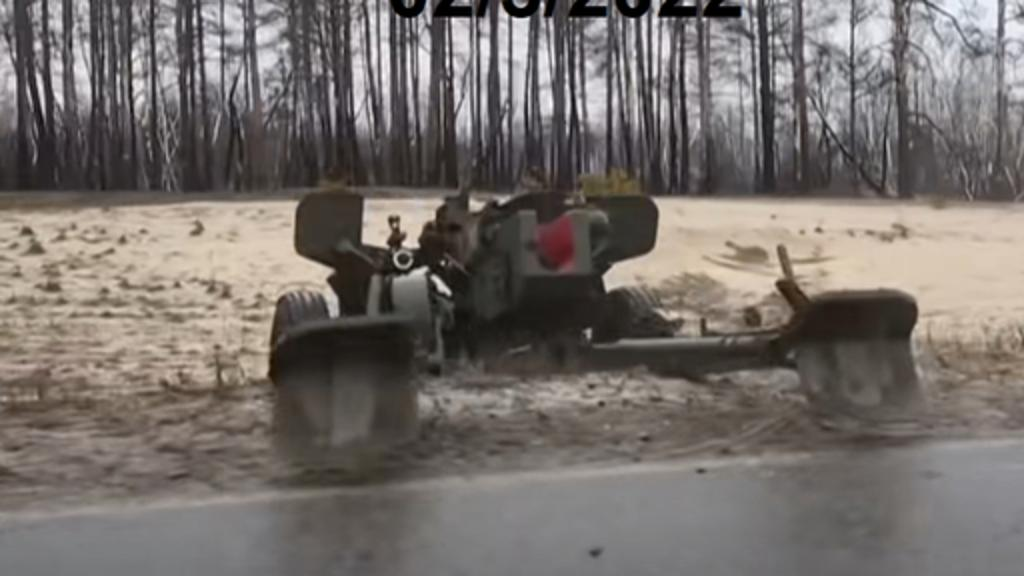ART: (262, 176, 920, 464)
